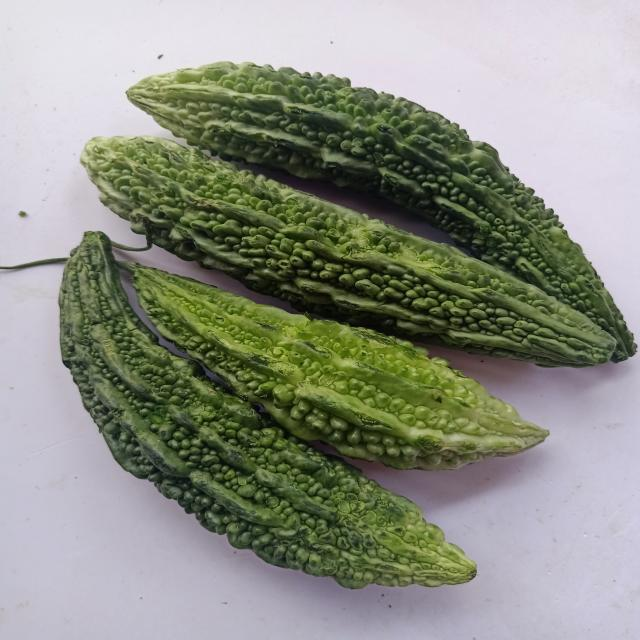Bitter Gourd: (52, 226, 503, 601), (108, 50, 640, 366), (79, 131, 623, 372), (131, 257, 562, 474)
